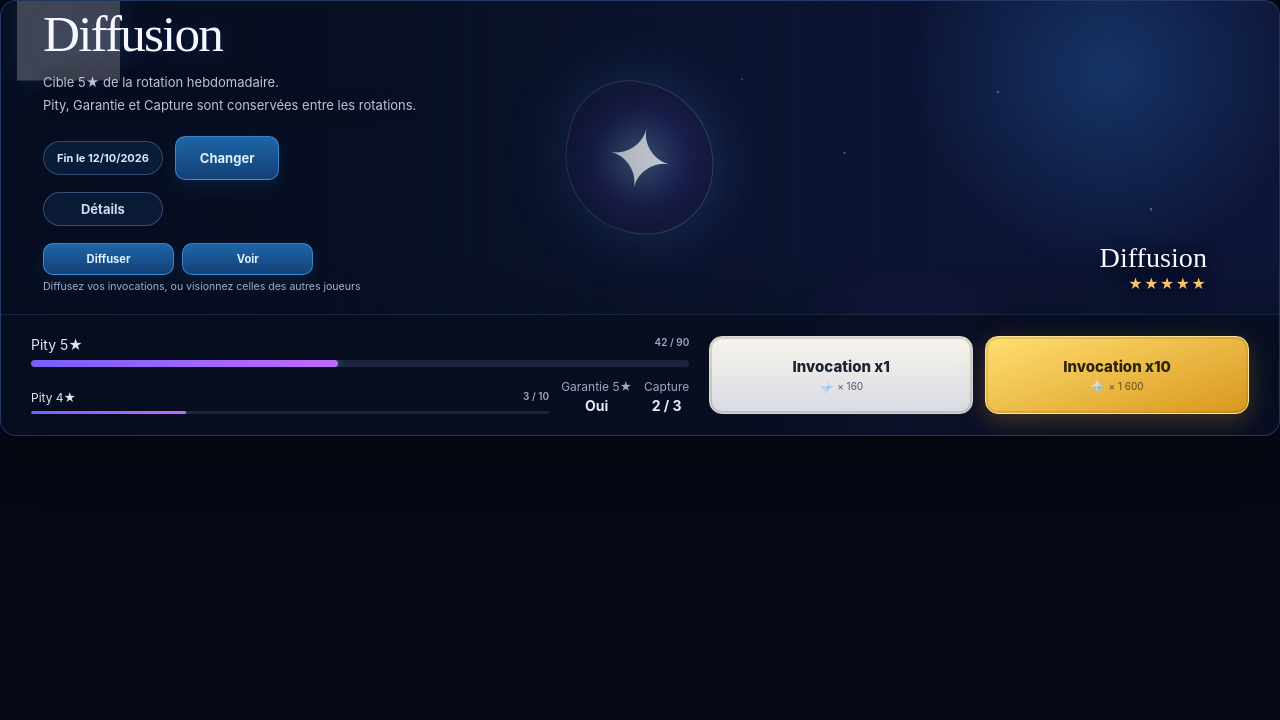
starts and stops directly in one click and keeps sharing absent from target selection
The width and height of the screenshot is (1280, 720).
What coordinates should you click on to do the following:
click the button "Diffuser"
I would click on:
 (109, 259)
Its box is top-left (43, 243), bottom-right (174, 275).
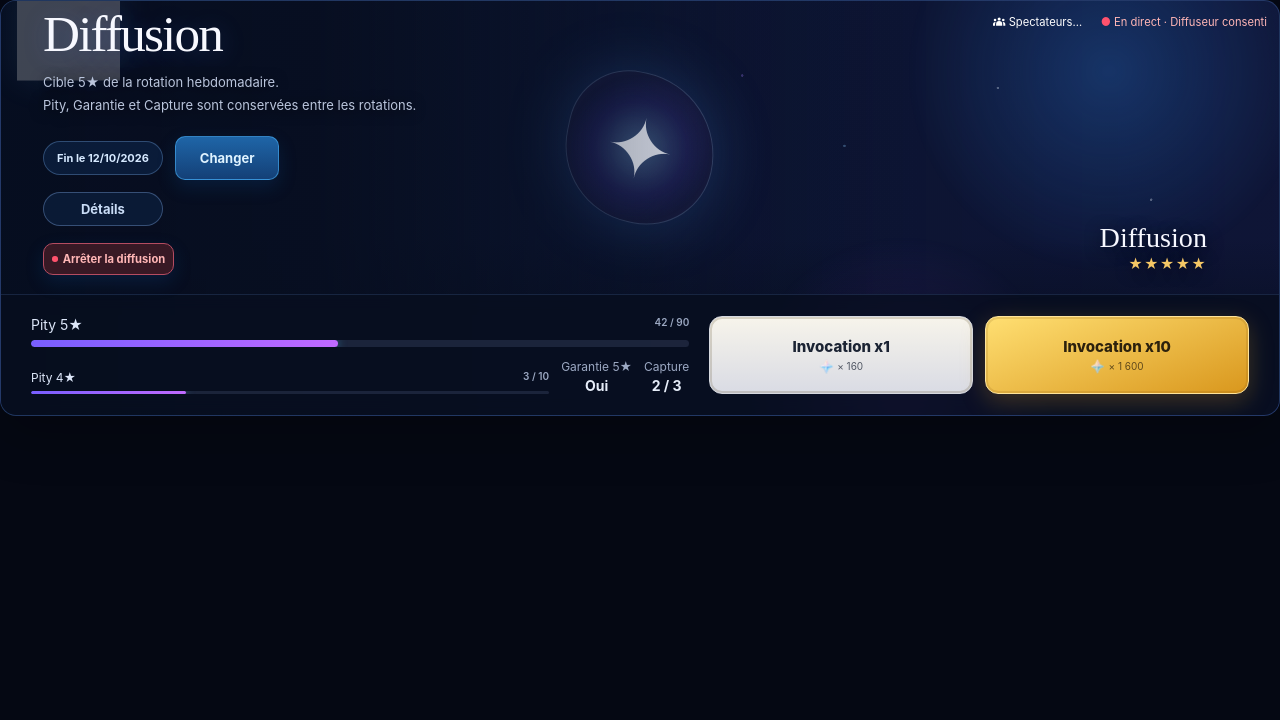
What coordinates should you click on to do the following:
click the button "Arrêter la diffusion"
I would click on:
 (109, 259)
Its box is top-left (43, 243), bottom-right (174, 275).
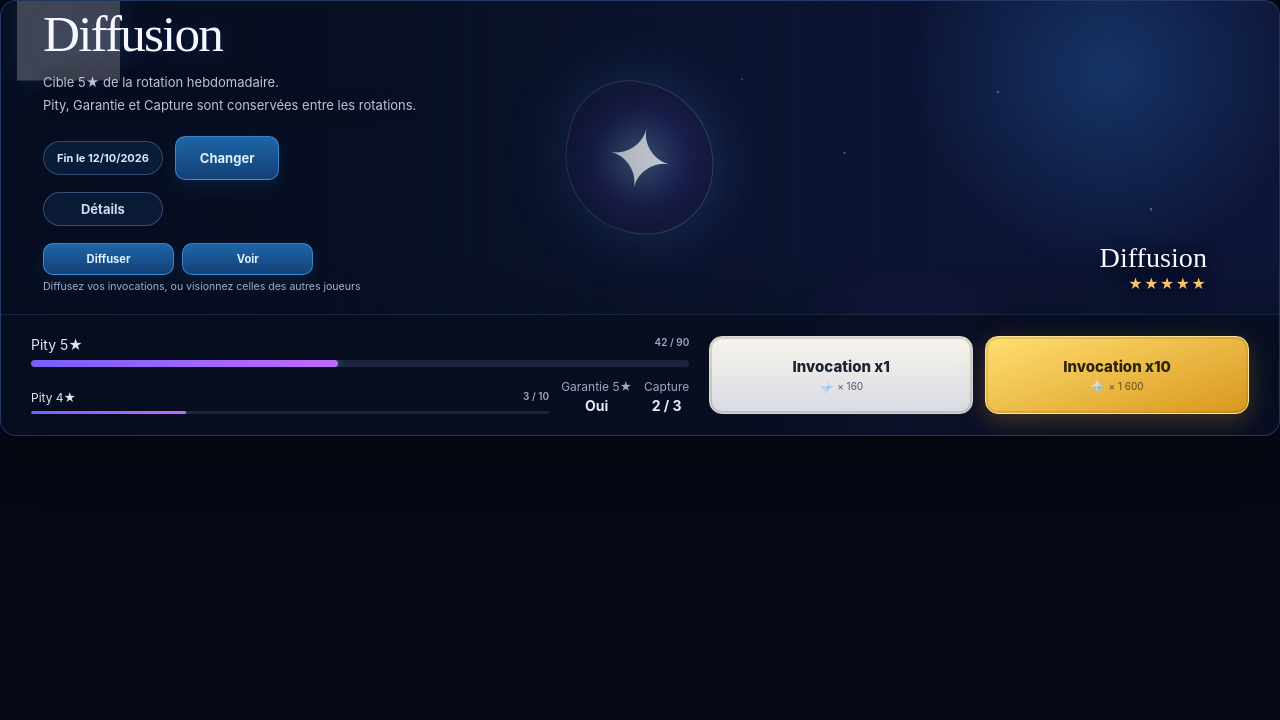
What coordinates should you click on to do the following:
click the button "Changer"
I would click on:
 (227, 158)
Its box is top-left (175, 136), bottom-right (279, 180).
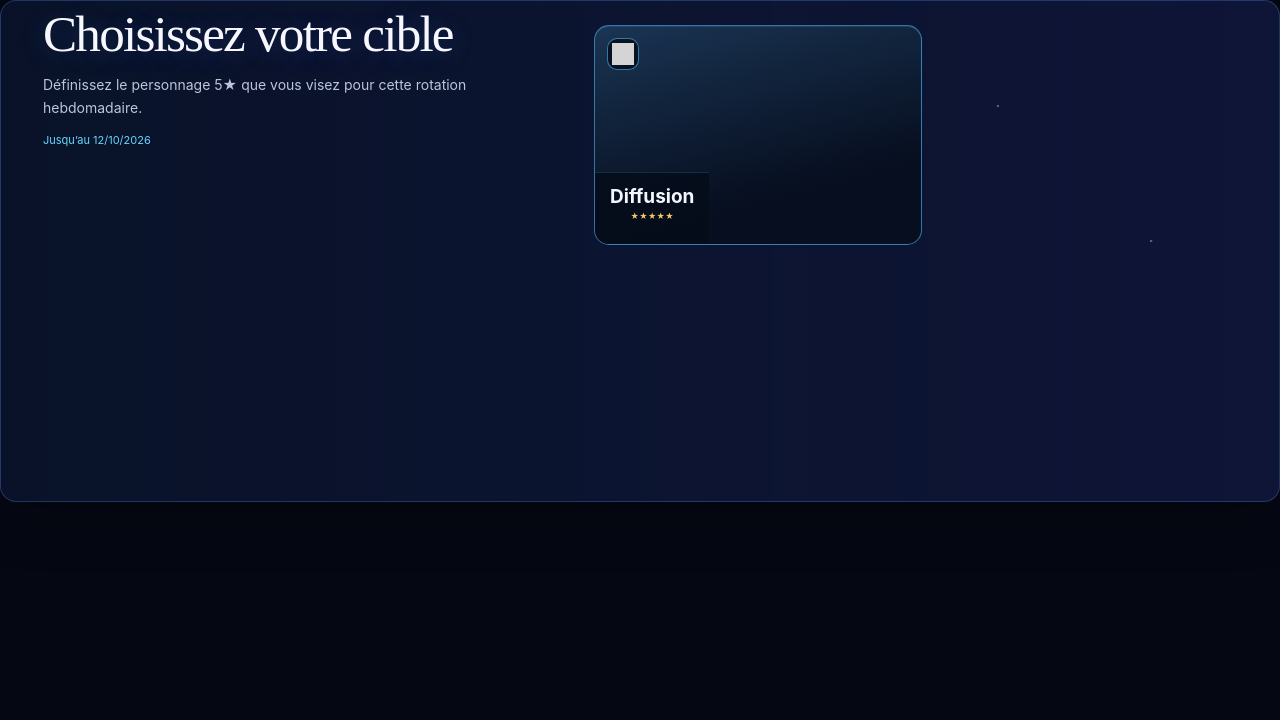
Result: the text "Choisissez votre cible" is shown at top-left (43, 9), bottom-right (523, 58)
Result: the element with class "shared-invocation-controls" is gone
